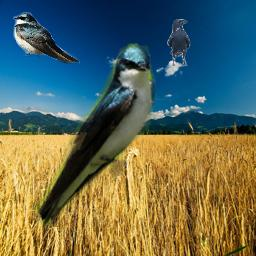Crow: (167, 19, 191, 66)
Swallow: (32, 43, 157, 233), (13, 12, 80, 64)
